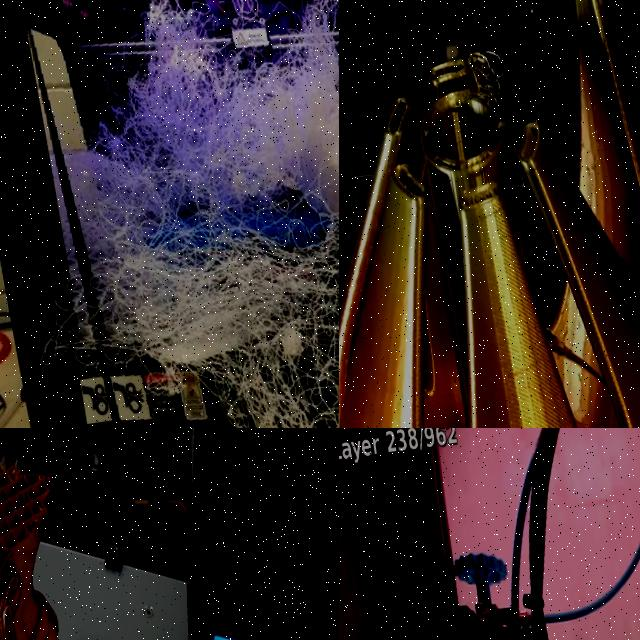spaghetti: (15, 0, 339, 428), (454, 30, 506, 100), (509, 154, 528, 199)
